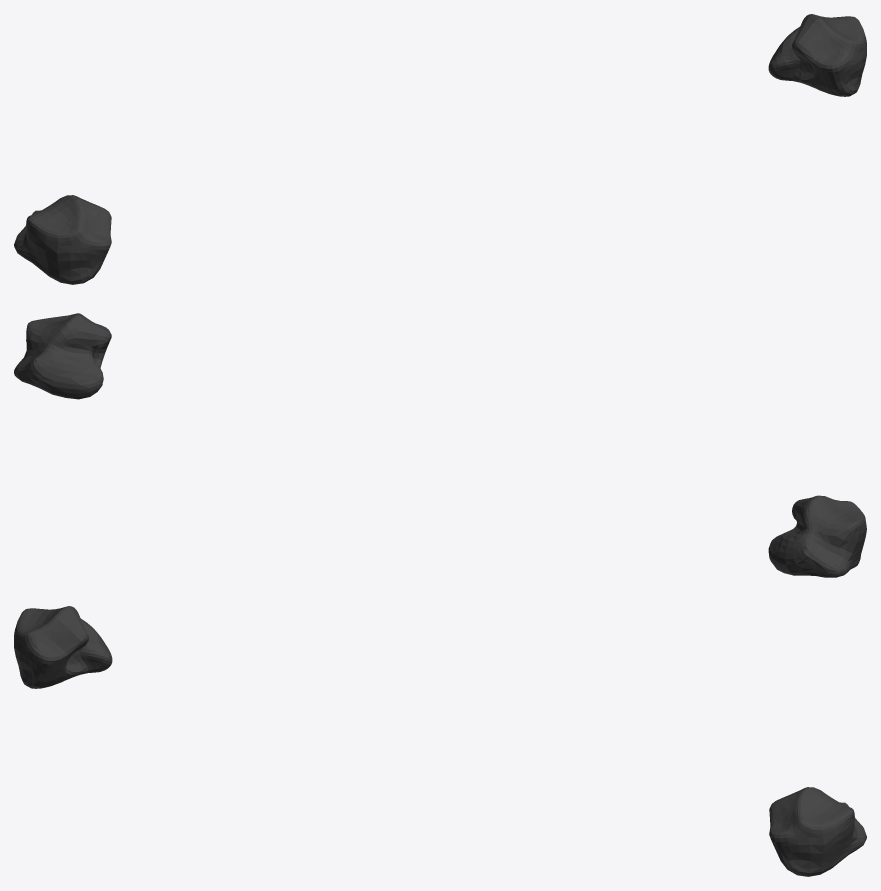
The model's file is b_carpals_4_L_LO.glb.
The picture shows the model from 3 angles, top to bottom: view 1: azimuth 30°, elevation 25°; view 2: azimuth 150°, elevation 25°; view 3: azimuth 330°, elevation 25°; orthographic projection.
Visible parts, largest first — view 1: b_carpals_4_L_LO; view 2: b_carpals_4_L_LO; view 3: b_carpals_4_L_LO.
Boxes of the visible parts, x1,y1,x2,y2 form: b_carpals_4_L_LO: (14, 14, 866, 284); b_carpals_4_L_LO: (14, 313, 866, 577); b_carpals_4_L_LO: (14, 606, 866, 876).
Bounding box in the file's own units: 0.00331 × 0.000269 × 0.000376.
Materials: 1 (1 with a texture image).
